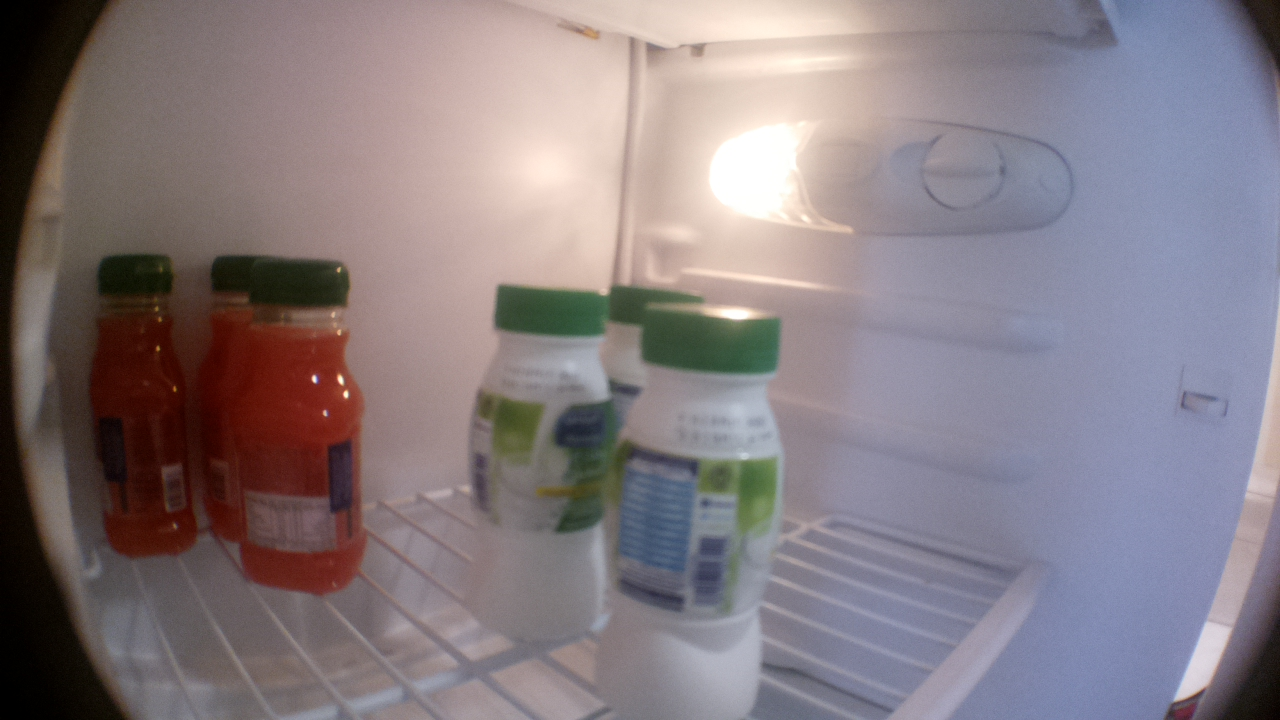juice: (241, 257, 372, 602), (88, 250, 197, 564), (186, 249, 254, 545)
laban: (598, 304, 791, 715), (463, 282, 615, 646), (607, 276, 654, 430)
